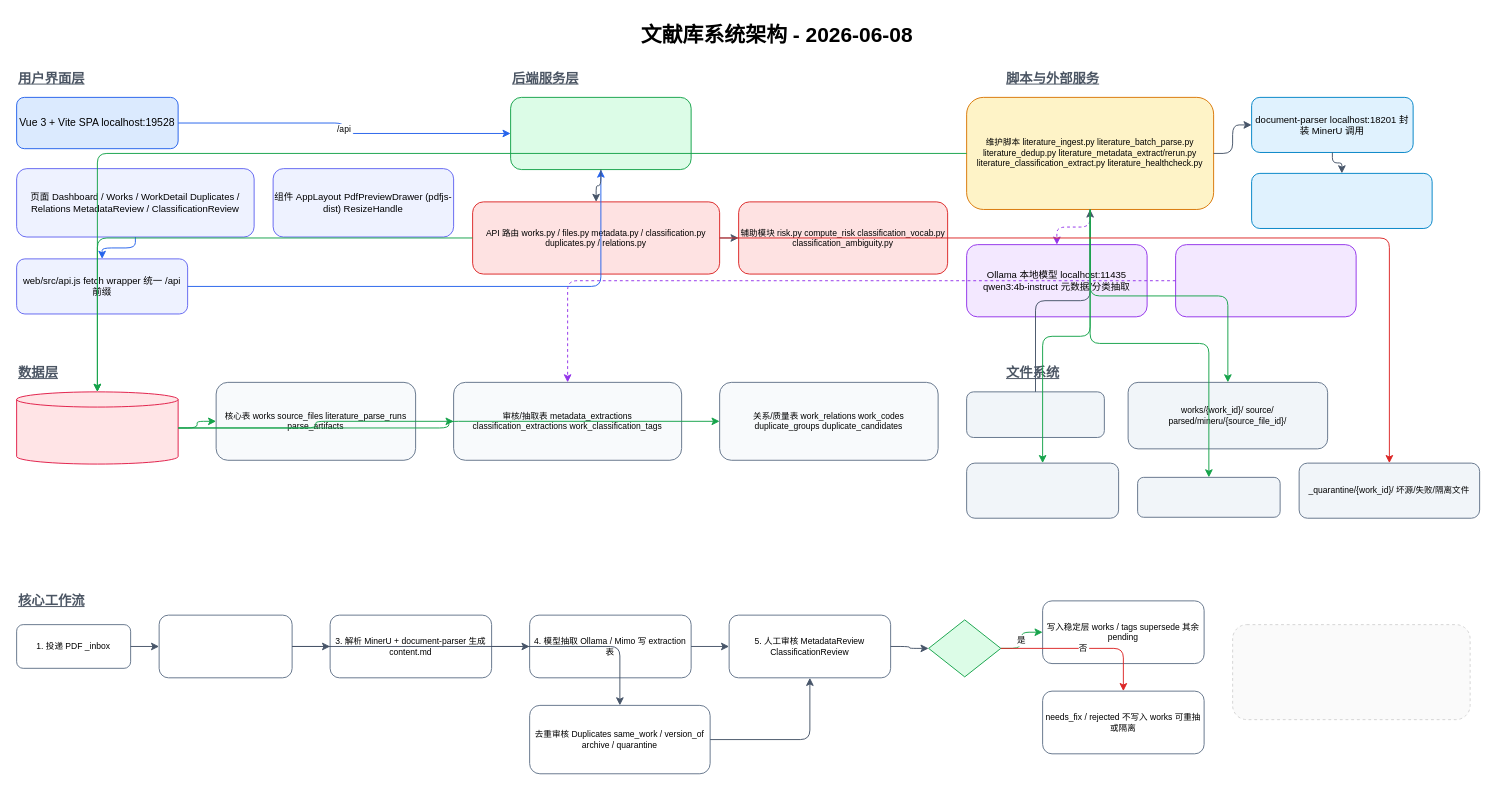
Some shapes in this 1496 by 790 pixel diagram are drawn without their labels. Here are the shapes that lost their labels. From the top down, the box of each, then its label:
(510, 96, 691, 170): FastAPI localhost:19527 CORS: localhost:19528 生产模式托管 web/dist
(1251, 172, 1432, 228): MinerU localhost:18200 PDF -> content.md / content.json
(1175, 244, 1356, 317): Mimo 2.5 Pro Claude Code skill 全文重抽取/高风险修复
(16, 391, 178, 464): SQLite (WAL) literature.sqlite 逻辑关系中心
(966, 391, 1104, 437): _inbox/ 新 PDF 临时入口
(966, 462, 1119, 518): _archive/ ingested_inbox/ dedup/
(1137, 476, 1280, 517): _duplicates/ exact_sha256
(158, 614, 292, 678): 2. 摄入 sha256 去重 写 DB / ledger
(928, 619, 1001, 677): 批准?
(1232, 624, 1470, 720): 约束 文件系统只存物理文件；逻辑关系由 SQLite 管理 模型结果先入审核表，人工确认后才进入稳定层
